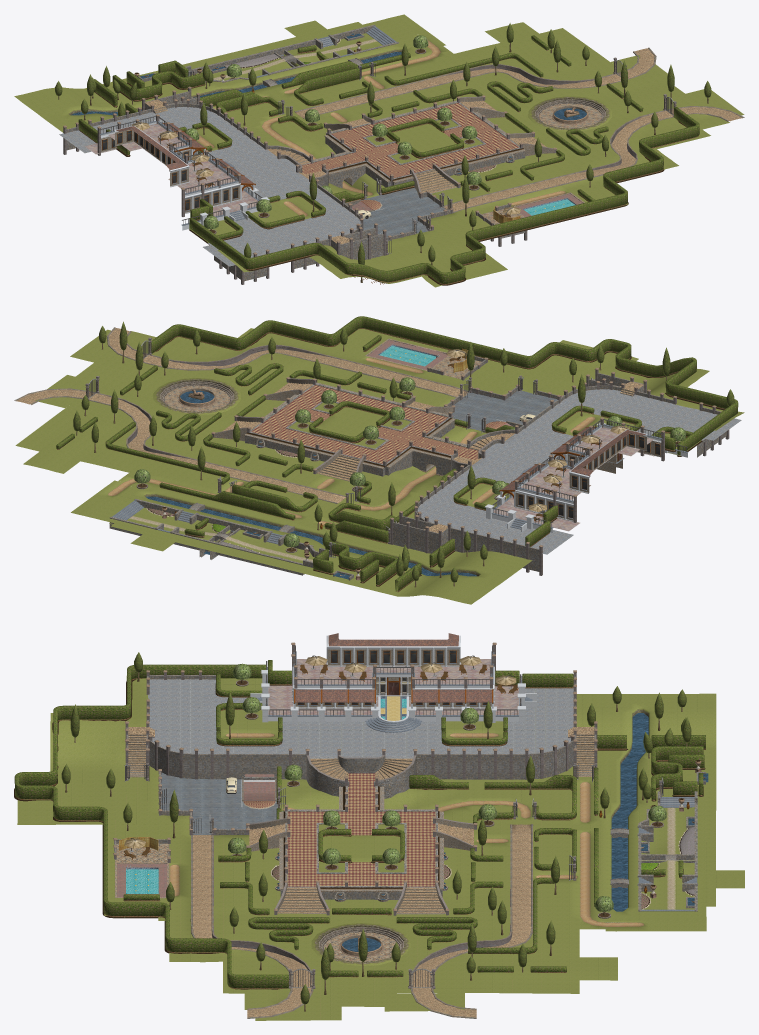
Rendered from estate.glb.
3 views of the same model, one above another, from view 1: azimuth 30°, elevation 25°; view 2: azimuth 150°, elevation 25°; view 3: azimuth 270°, elevation 25° (orthographic). The views are drawn at different scales.
Visible parts, largest first — view 1: Ground08, Mansion08, Outer_Hedge, Mansion06, WalkWayTop, Driveway_1, Driveway_2, Mansion09, GardenProps07, GardenProps11, Ground03, GardenBridge (+22 smaller); view 2: Ground08, Mansion08, Outer_Hedge, Mansion06, WalkWayTop, Mansion09, Driveway_2, Driveway_1, GardenProps07, GardenProps11, Ground03, GardenBridge (+26 smaller); view 3: Ground08, Mansion06, Mansion08, Mansion09, Outer_Hedge, WalkWayTop, Driveway_1, Driveway_2, GardenProps07, Stairs, Ground03, FlowerBorders19 (+23 smaller).
Part boxes in pixels (bbox=[...]): Ground08: bbox=[14, 14, 744, 287]; Mansion08: bbox=[59, 107, 360, 266]; Outer_Hedge: bbox=[189, 107, 699, 285]; Mansion06: bbox=[85, 114, 269, 230]; WalkWayTop: bbox=[302, 101, 520, 179]; Driveway_1: bbox=[294, 47, 656, 118]; Driveway_2: bbox=[444, 106, 744, 212]; Mansion09: bbox=[63, 99, 374, 284]; GardenProps07: bbox=[361, 188, 446, 237]; GardenProps11: bbox=[185, 24, 398, 82]; Ground03: bbox=[189, 33, 382, 80]; GardenBridge: bbox=[313, 134, 390, 188]; Ground08: bbox=[15, 328, 744, 604]; Mansion08: bbox=[417, 389, 741, 554]; Outer_Hedge: bbox=[151, 316, 738, 456]; Mansion06: bbox=[484, 417, 688, 532]; WalkWayTop: bbox=[249, 383, 478, 465]; Mansion09: bbox=[414, 381, 729, 575]; Driveway_2: bbox=[106, 327, 468, 397]; Driveway_1: bbox=[14, 388, 346, 503]; GardenProps07: bbox=[452, 391, 557, 430]; GardenProps11: bbox=[109, 498, 332, 575]; Ground03: bbox=[127, 507, 314, 563]; GardenBridge: bbox=[385, 418, 466, 475]; Ground08: bbox=[17, 676, 744, 1020]; Mansion06: bbox=[250, 633, 536, 722]; Mansion08: bbox=[148, 676, 573, 758]; Mansion09: bbox=[146, 670, 576, 801]; Outer_Hedge: bbox=[14, 664, 288, 989]; WalkWayTop: bbox=[285, 773, 437, 887]; Driveway_1: bbox=[410, 824, 533, 1018]; Driveway_2: bbox=[190, 835, 313, 1018]; GardenProps07: bbox=[161, 772, 277, 834]; Stairs: bbox=[306, 755, 416, 798]; Ground03: bbox=[641, 807, 694, 909]; FlowerBorders19: bbox=[611, 713, 648, 911].
Bounding box in the file's own units: 132 × 16.38 × 124.
1 material, 1 textured.
